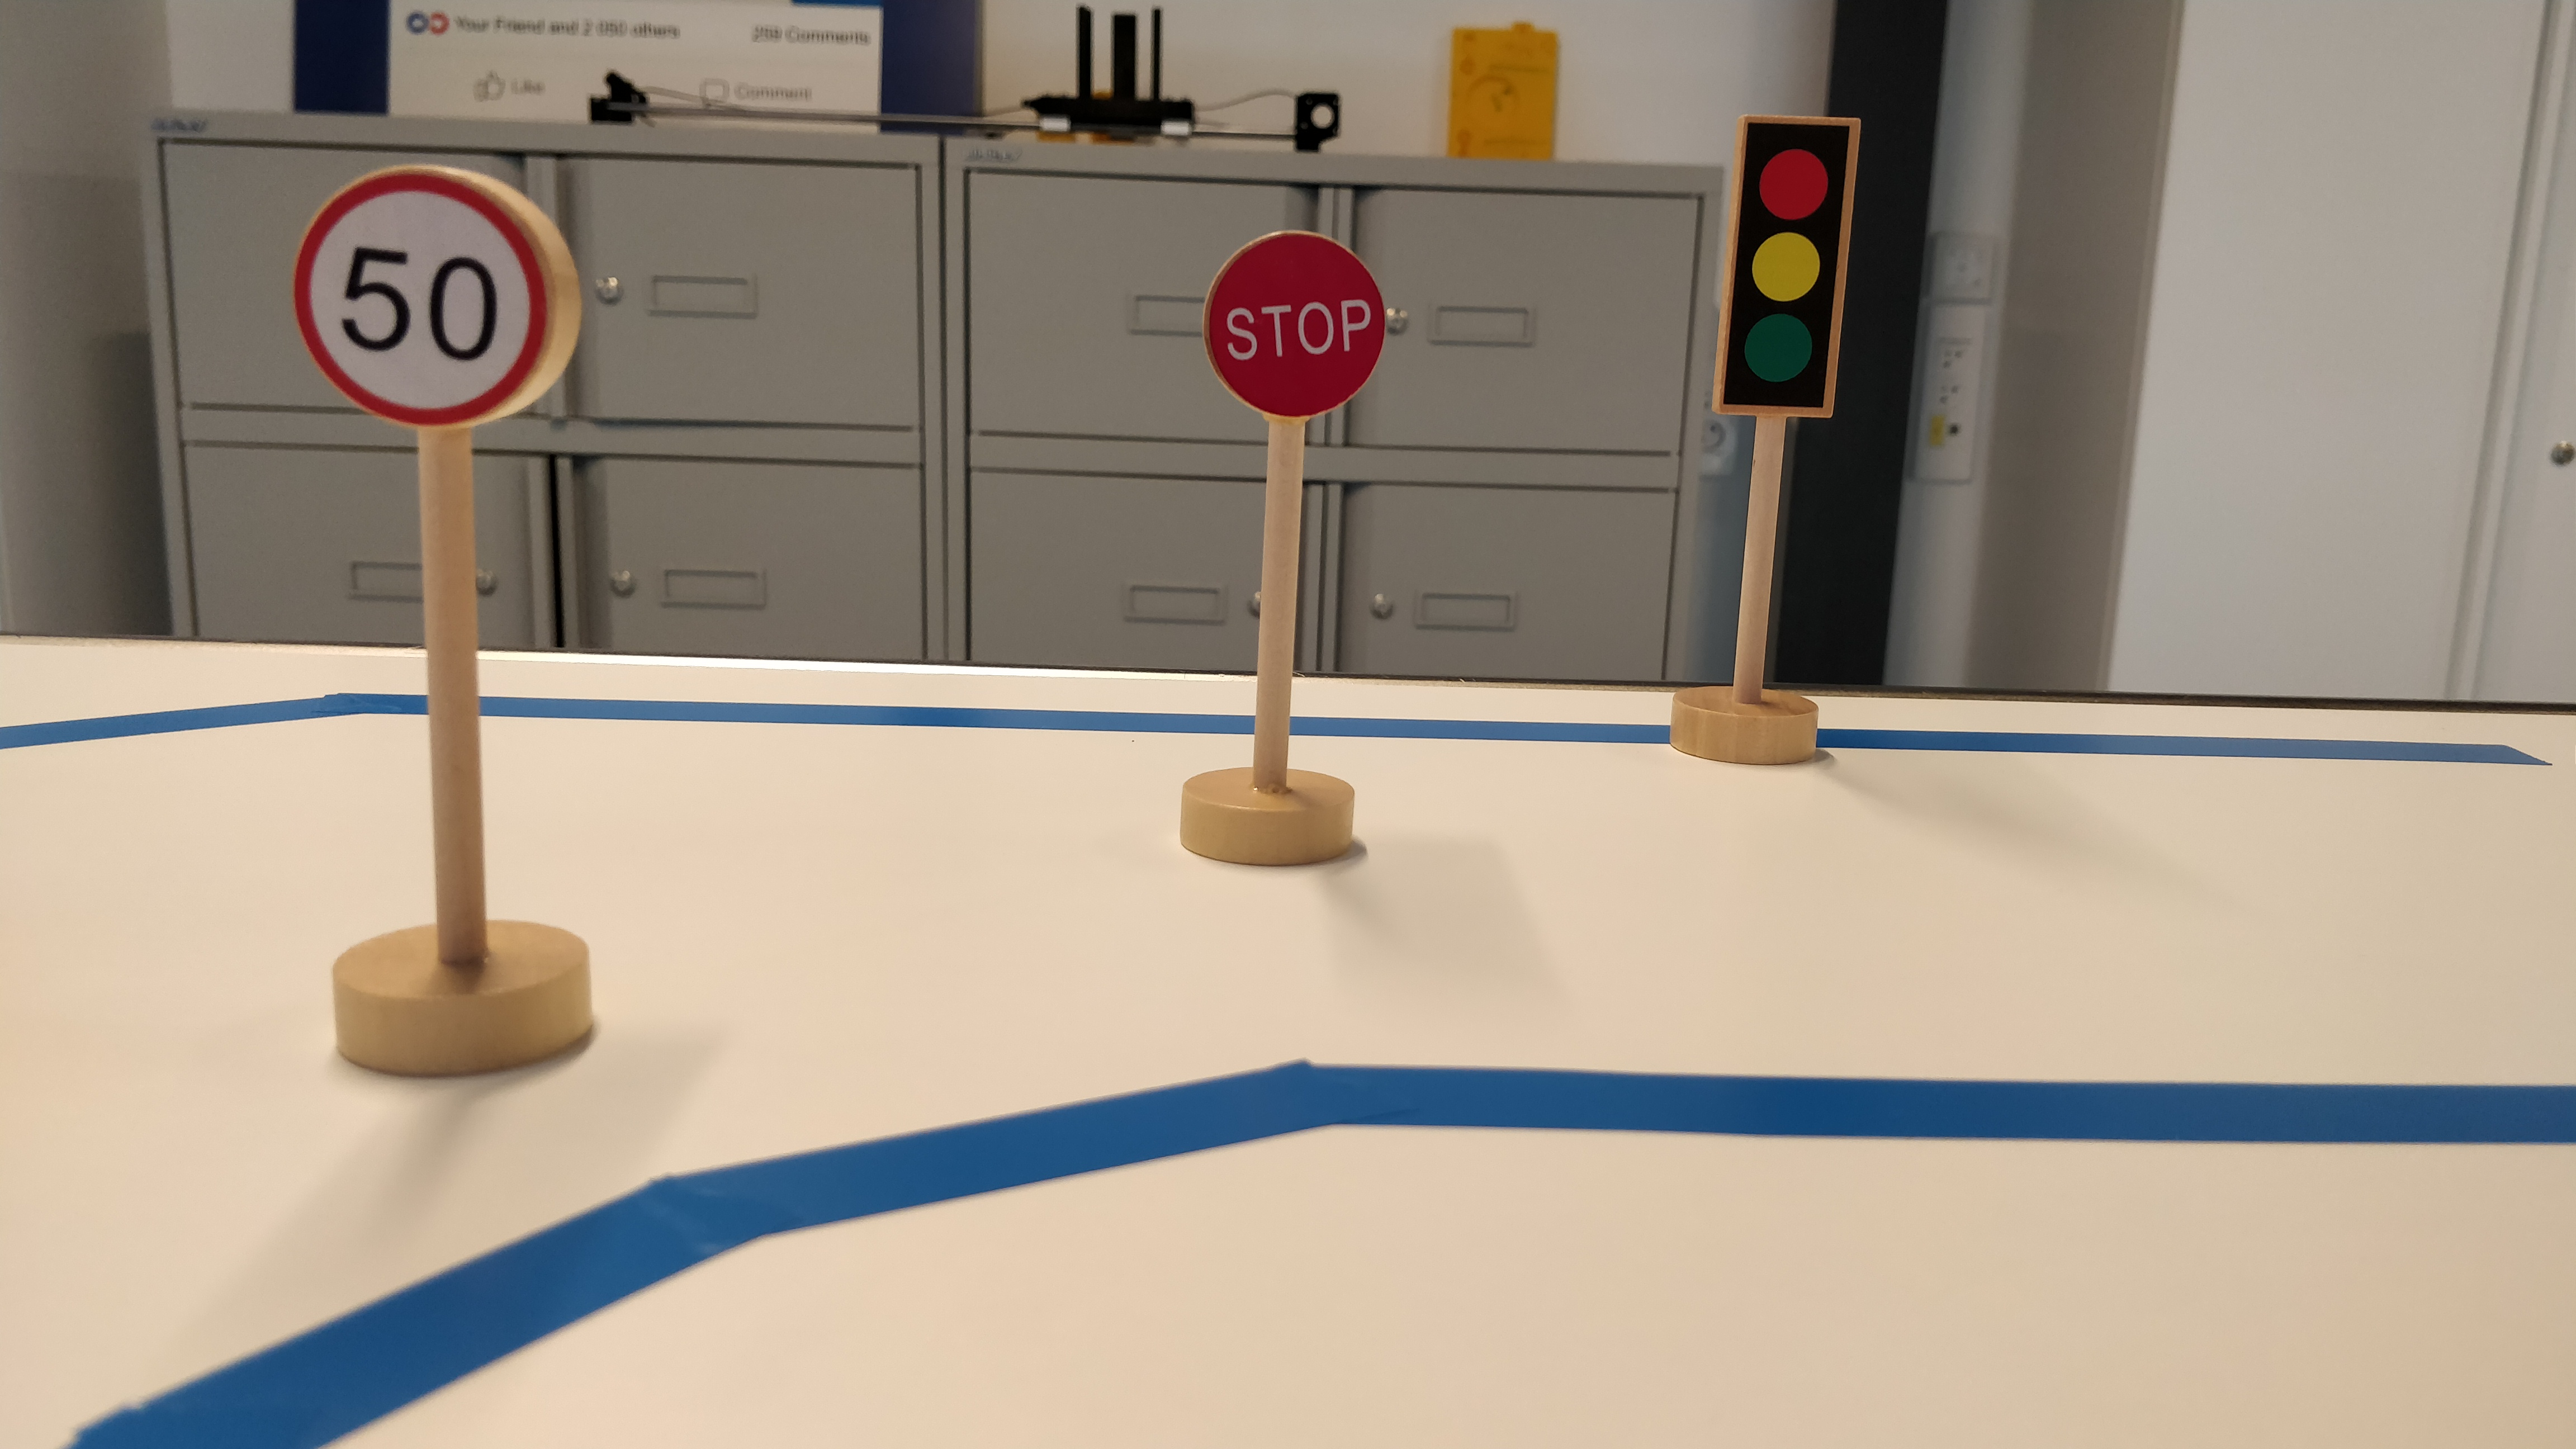Speed Limit 50: (286, 157, 586, 432)
Stop Sign: (1200, 226, 1390, 422)
Traffic Light: (1703, 111, 1863, 423)
